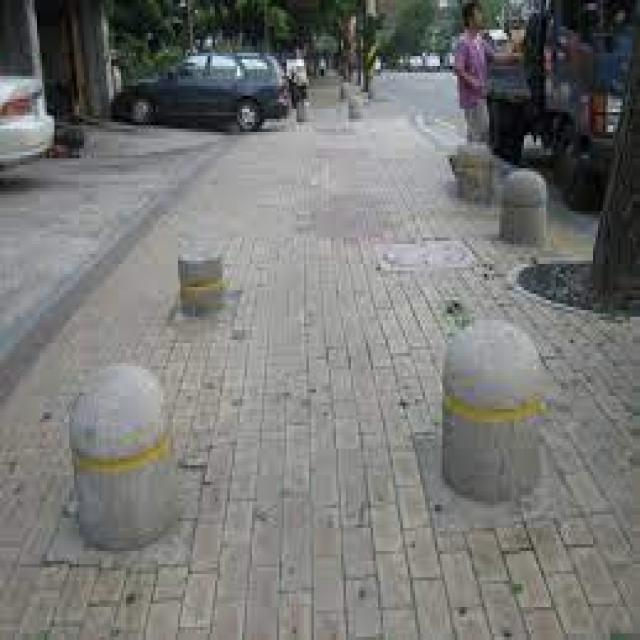bollard: (433, 302, 552, 502), (66, 362, 186, 556), (494, 166, 554, 251), (170, 241, 234, 319), (450, 135, 498, 209), (341, 87, 373, 131)
